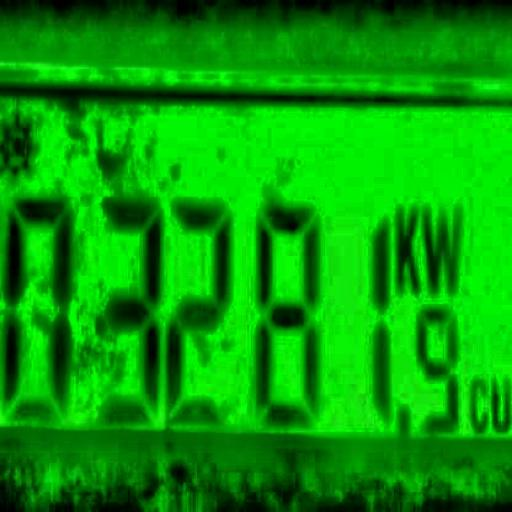SERIAL_REGION: (0, 192, 475, 438)
